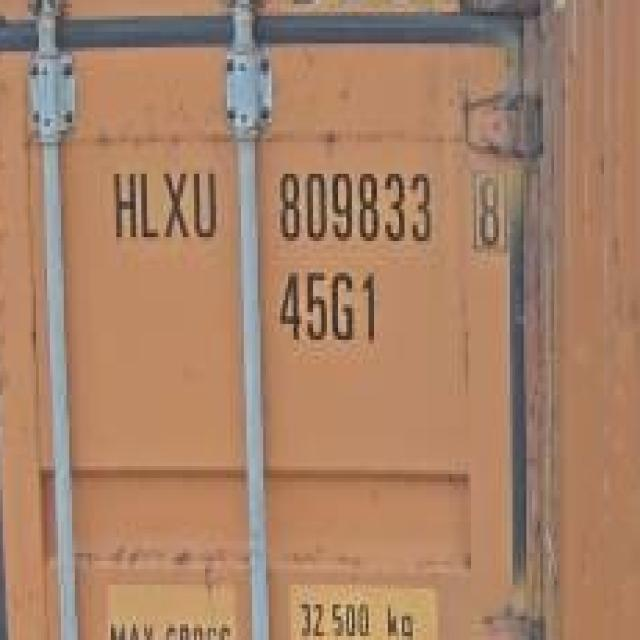dv: (465, 167, 508, 253)
owner: (108, 162, 222, 248)
serial: (270, 165, 444, 250)
size: (273, 268, 382, 350)
